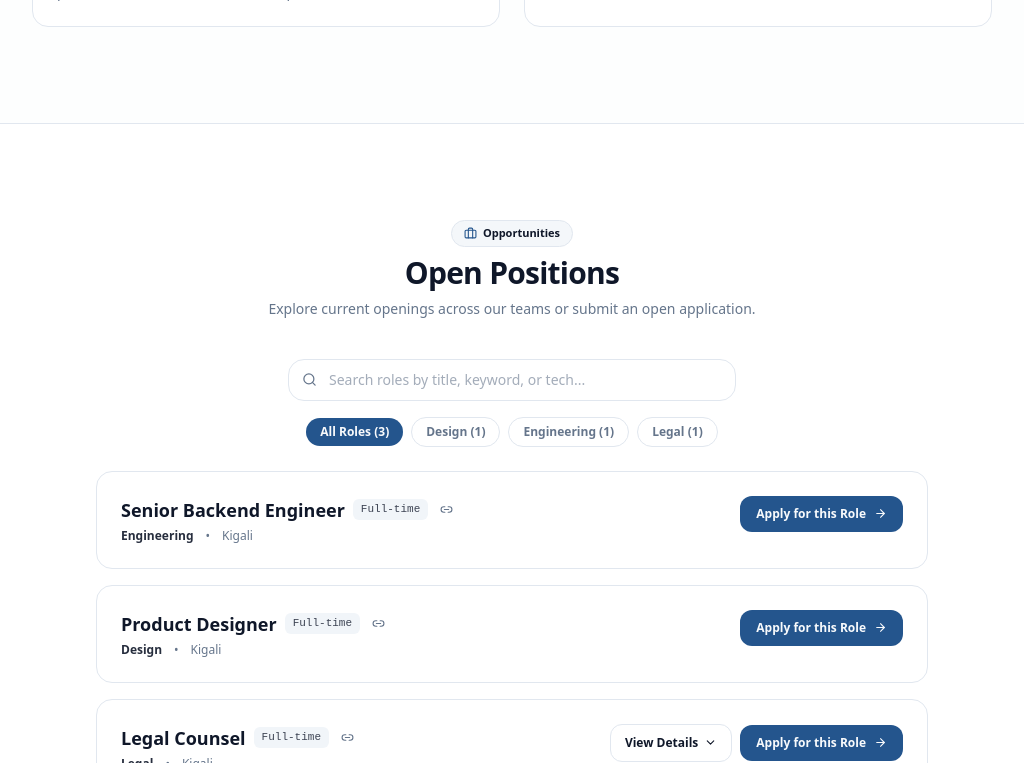
Test: Careers — open positions › filters roles in real-time by keyword search across title, department and requirements
(page scrolled)
Check: the heading "Senior Backend Engineer" is shown, box [121,496,345,524]
Check: the heading "Product Designer" is shown, box [121,610,277,638]
Type "designer" into the field with placeholder "Search roles by title, keyword, or tech..." at (512, 380), box [288,358,736,400]
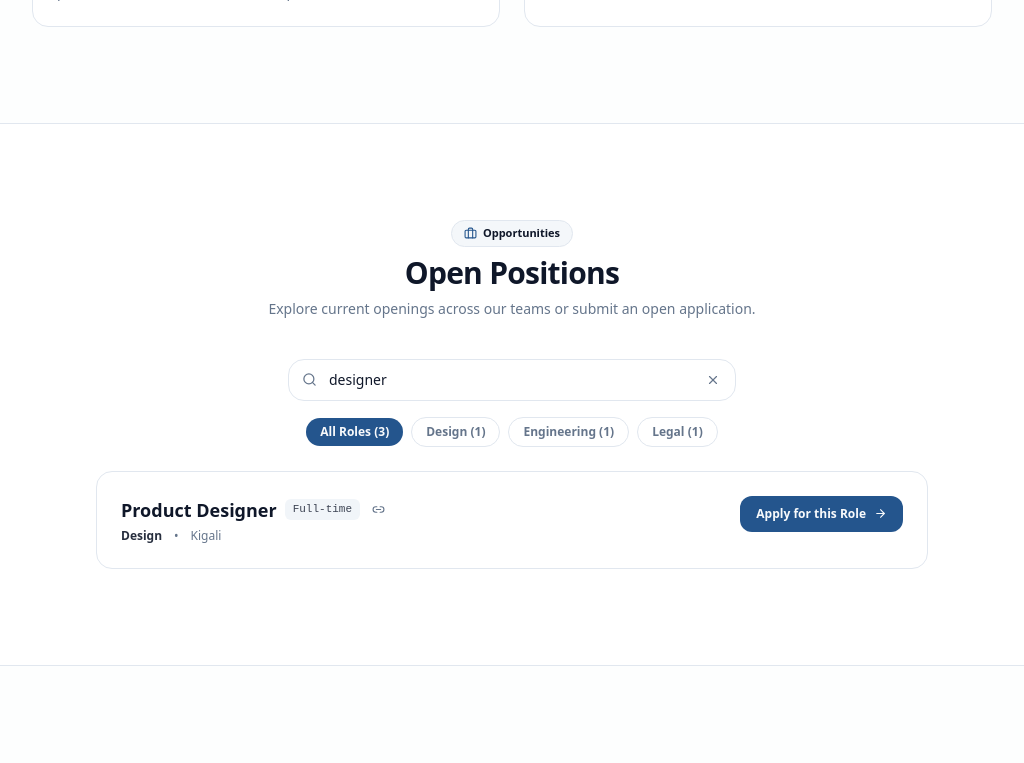
Check: the heading "Product Designer" is shown, box [121,496,277,524]
Check: the heading "Senior Backend Engineer" is gone
Check: the heading "Legal Counsel" is gone
Search by requirement keyword
Replace the text in the field with placeholder "Search roles by title, keyword, or tech..." with "bar admission" at (512, 380), box [288,358,736,400]
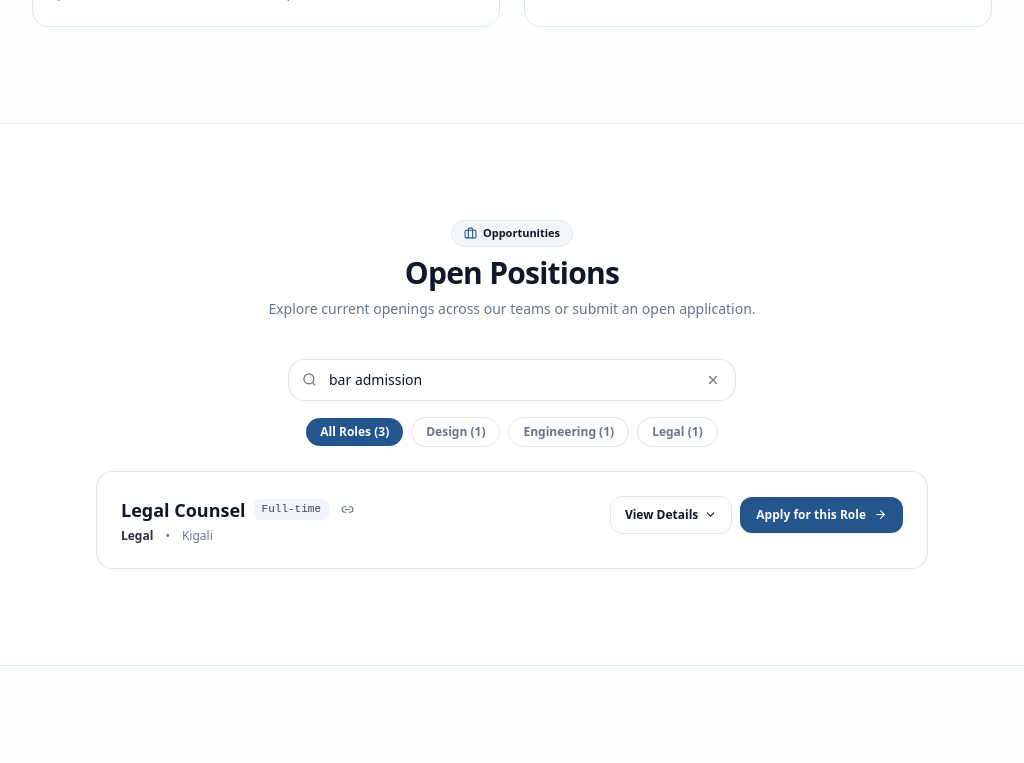
Check: the heading "Legal Counsel" is shown, box [121,496,246,524]
Check: the heading "Product Designer" is gone
No matches show empty state and reset button
Replace the text in the field with placeholder "Search roles by title, keyword, or tech..." with "nonexistent-keyword" at (512, 380), box [288,358,736,400]
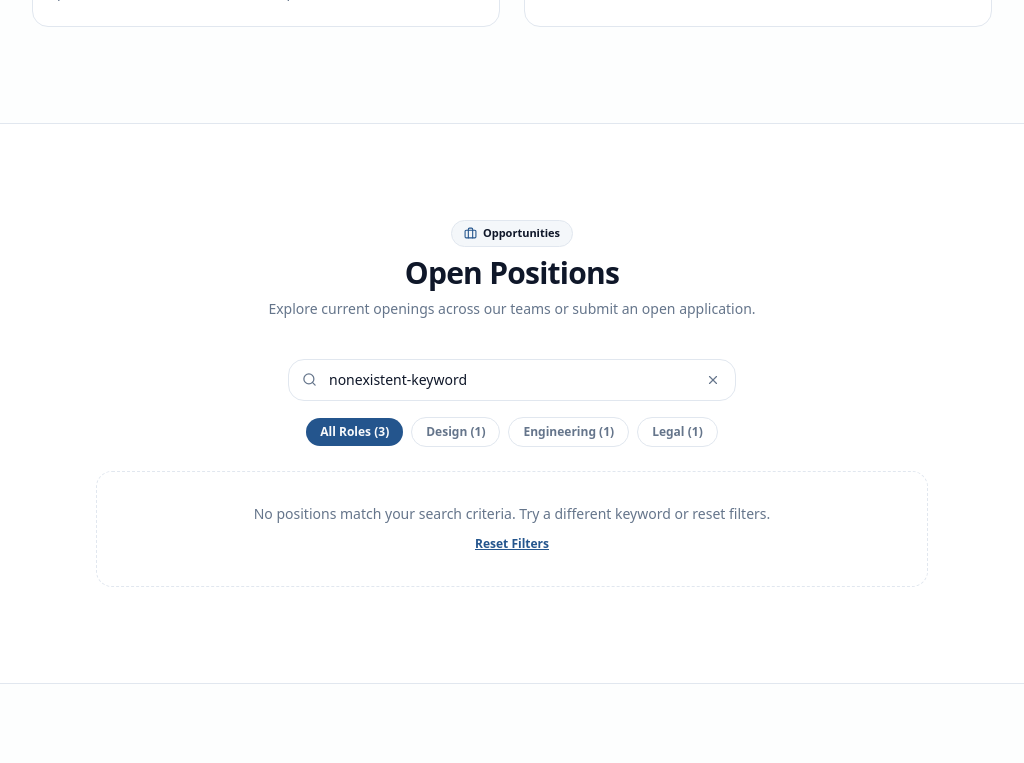
Check: the text "No positions match your search criteria. Try a different keyword or reset filters." is shown, box [254,504,770,522]
Click the button "Reset Filters" at (512, 544), box [475,536,549,552]
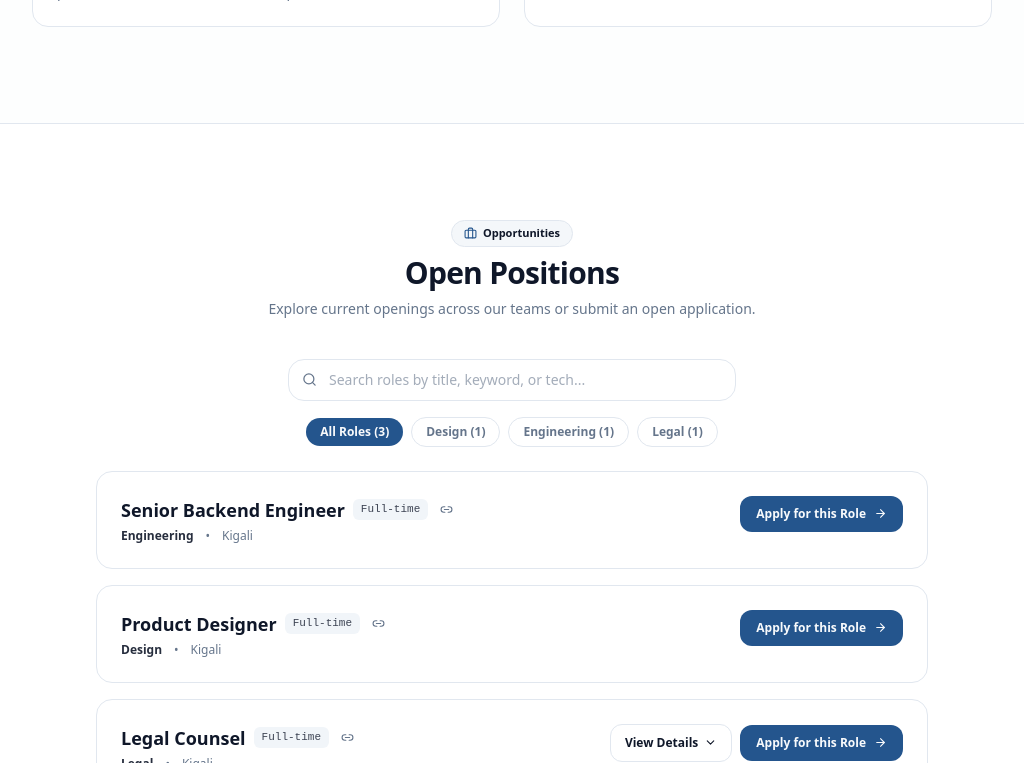
Check: the heading "Senior Backend Engineer" is shown, box [121,496,345,524]
